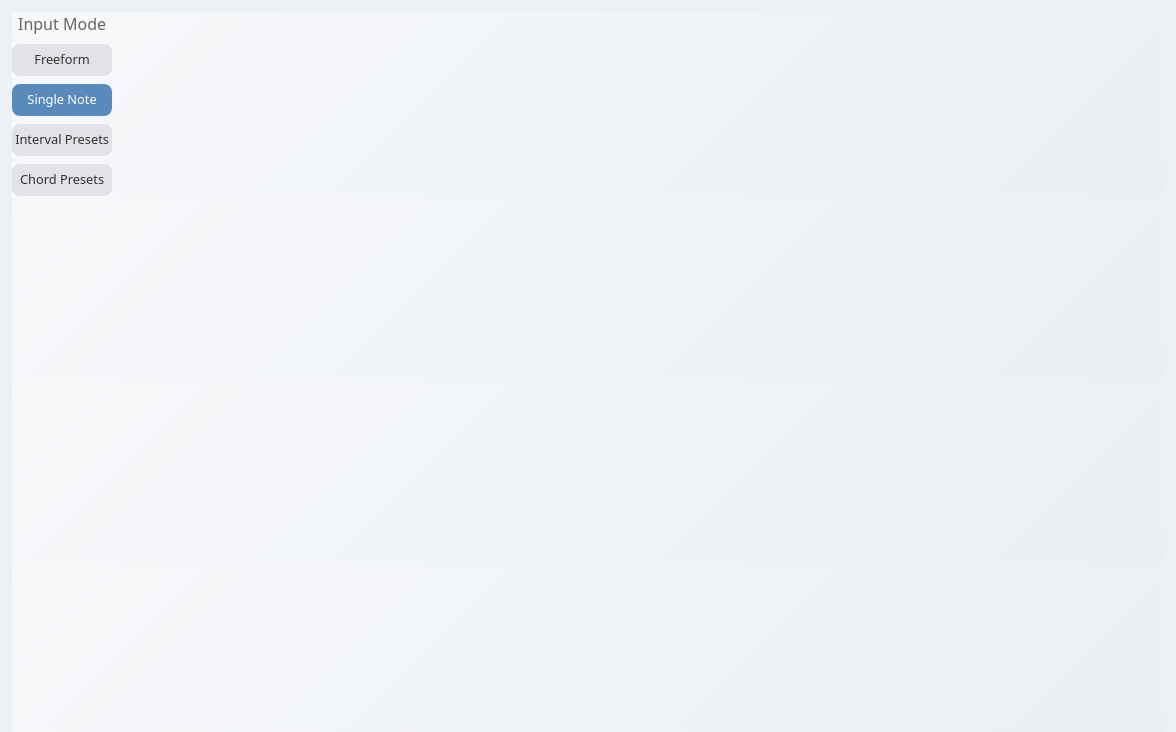
ModeSelector with preset buttons › Mode-specific Preset Buttons › Chord Mode › displays correct preset buttons
Click the button with id "mode-chords": click(62, 180) [12,164,112,196]
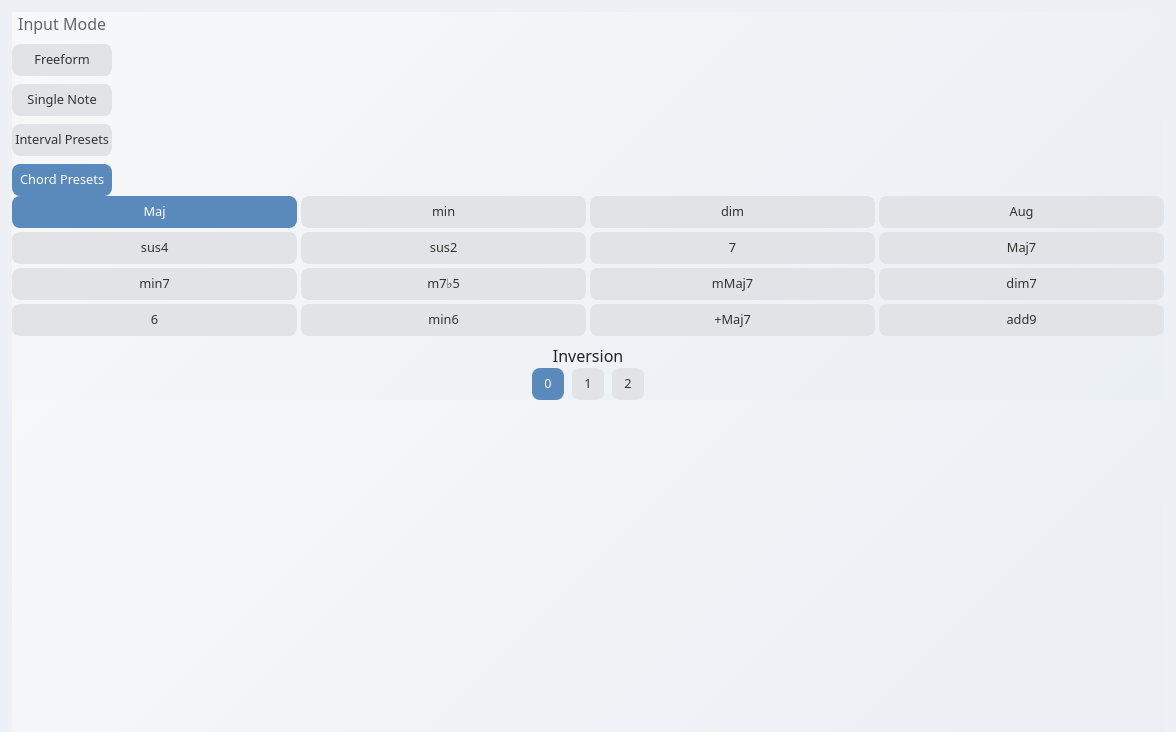
Expected: the button "sus2" is shown, [301,232,586,264]
Expected: the button with id "inversion-0" is shown, [532,368,564,400]
